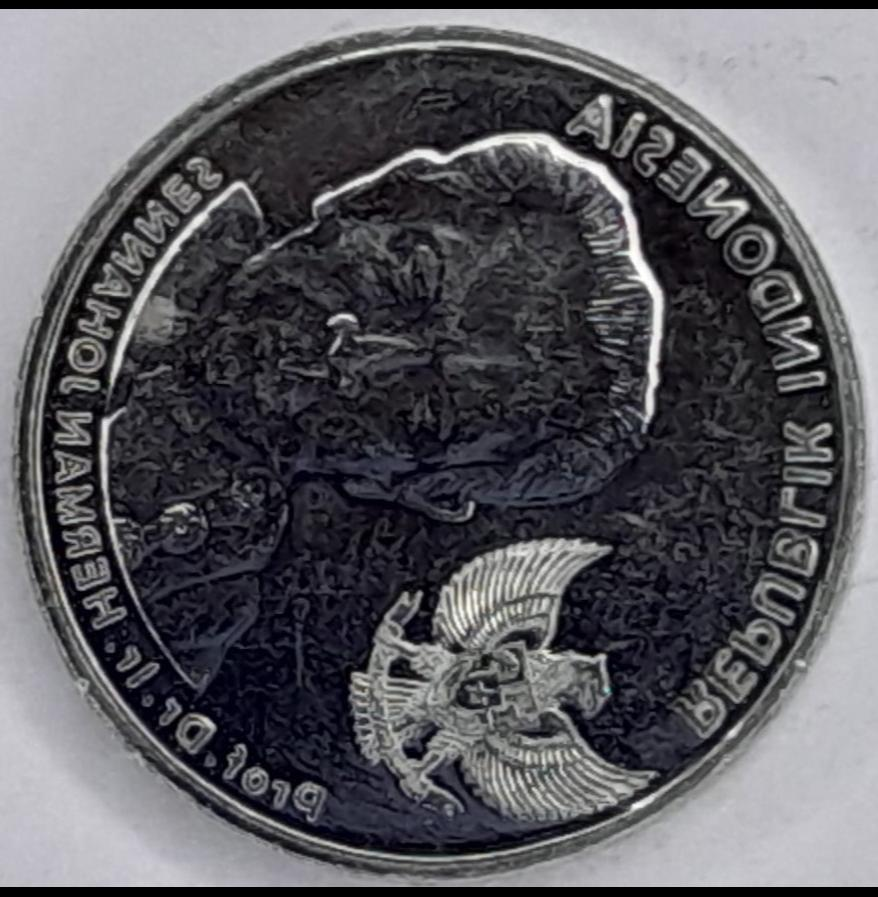coin_100_e2016: (8, 20, 867, 879)
